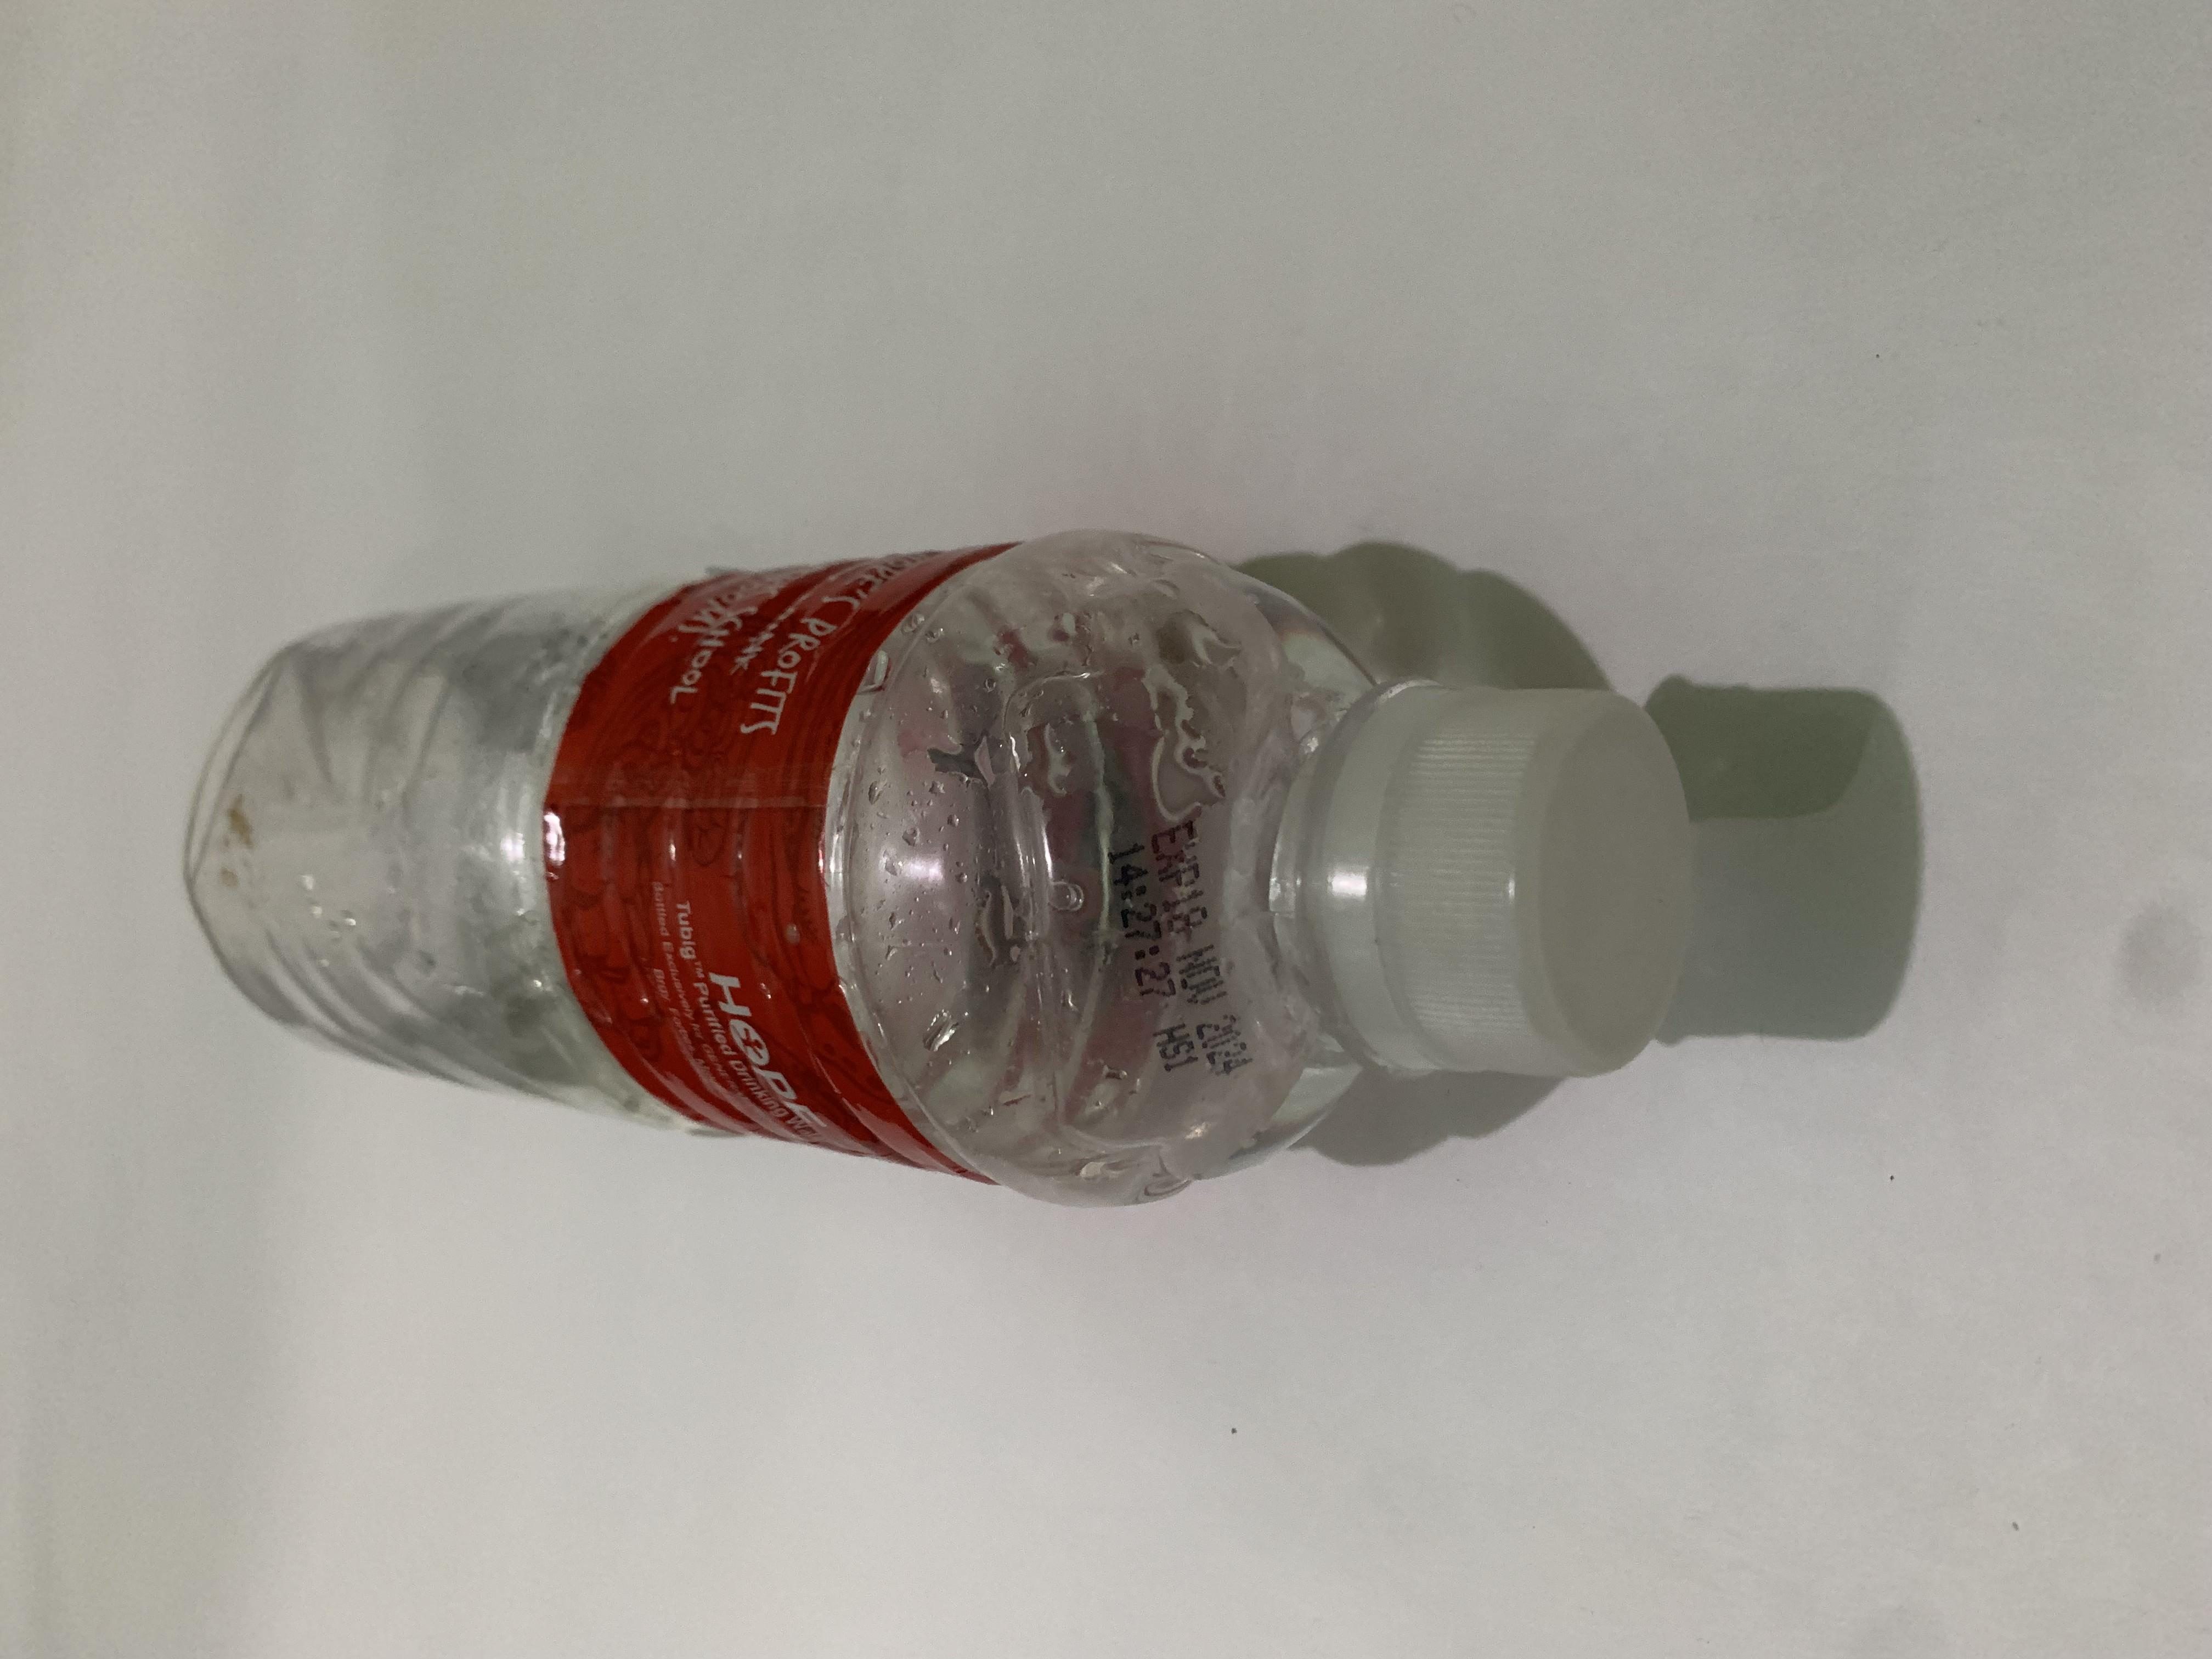bottle: (592, 119, 1514, 1276)
